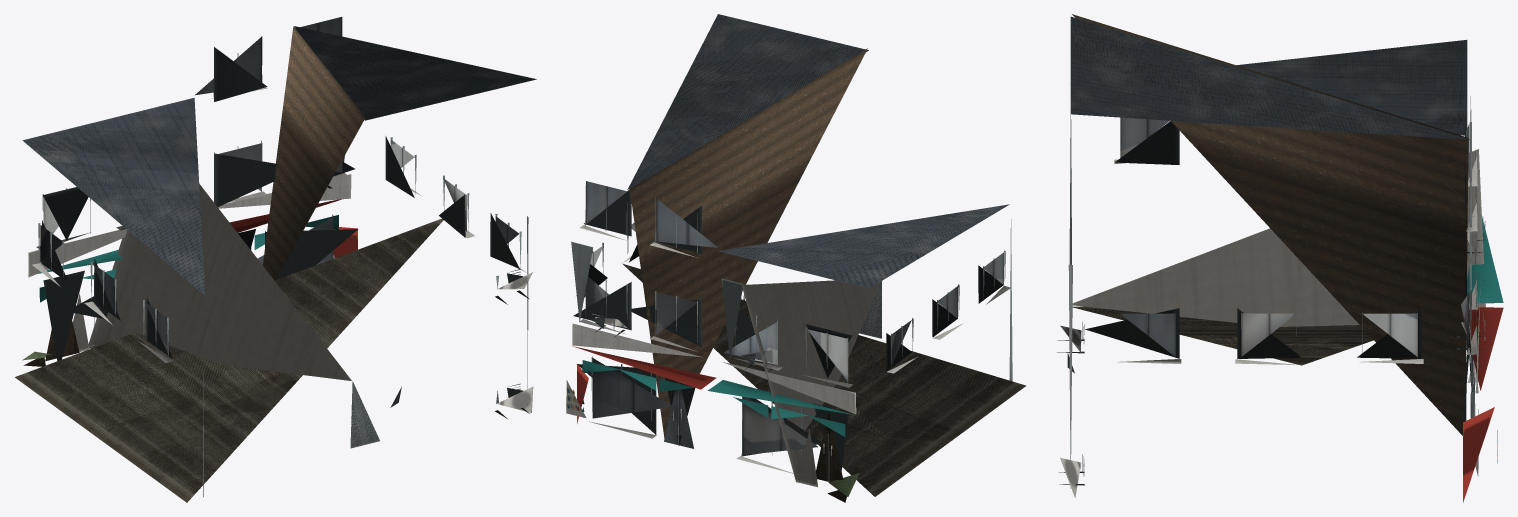
Rendered from shop_009.lod2.obj.
3 views of the same model, side by side, from view 1: azimuth 30°, elevation 25°; view 2: azimuth 150°, elevation 25°; view 3: azimuth 270°, elevation 25° (orthographic). The views are drawn at different scales.
Parts seen in each view (by area): view 1: shop_009; view 2: shop_009; view 3: shop_009.
Boxes of the visible parts, left/top/right/bottom form: shop_009: left=15, top=17, right=536, bottom=502; shop_009: left=566, top=14, right=1026, bottom=502; shop_009: left=1057, top=14, right=1503, bottom=502.
Size of the model in its own units: 9.96 by 9.04 by 9.23.
Materials: 1 (1 with a texture image).
